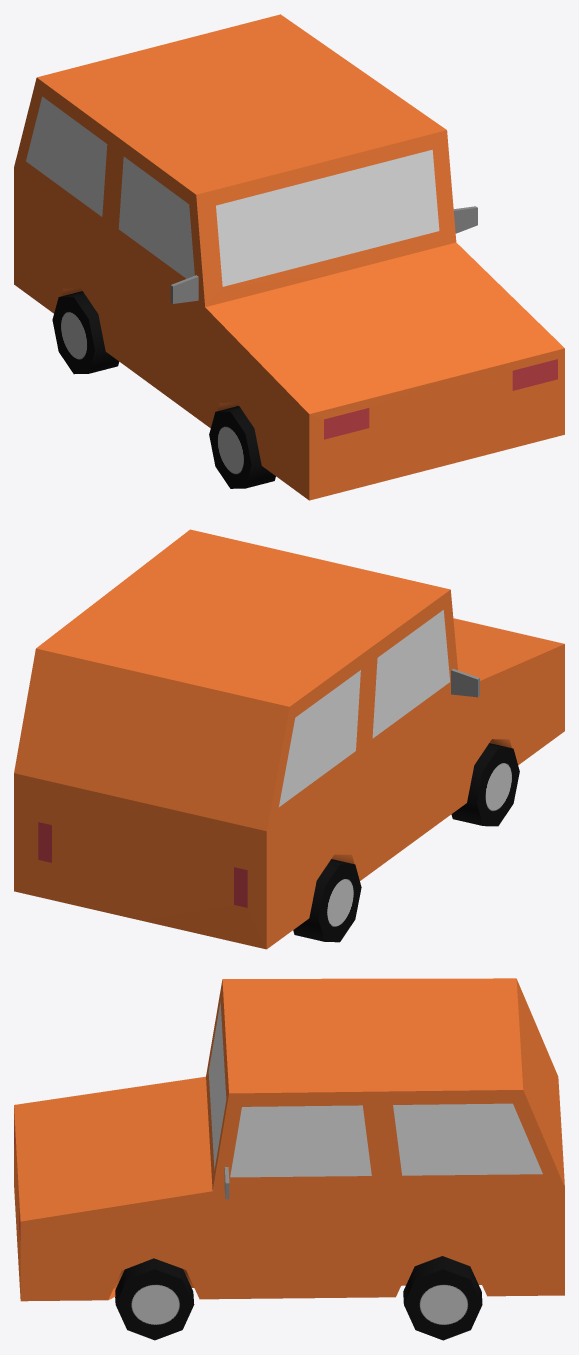
File: Car_4.FBX
3 views of the same model, one above another, from view 1: azimuth 30°, elevation 25°; view 2: azimuth 150°, elevation 25°; view 3: azimuth 270°, elevation 25° (orthographic). The views are drawn at different scales.
Parts seen in each view (by area): view 1: Car 04; view 2: Car 04; view 3: Car 04.
Part boxes in pixels (x1,y1,x2,y2): Car 04: (14,14,564,500); Car 04: (14,529,564,949); Car 04: (14,978,564,1340).
Bounding box in the file's own units: 1.87 × 1.52 × 3.13.
Materials: 1 (1 with a texture image).
